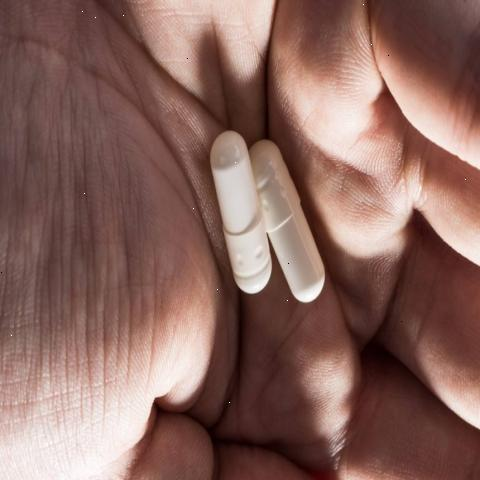Pill: (252, 128, 338, 324), (216, 122, 272, 308)
